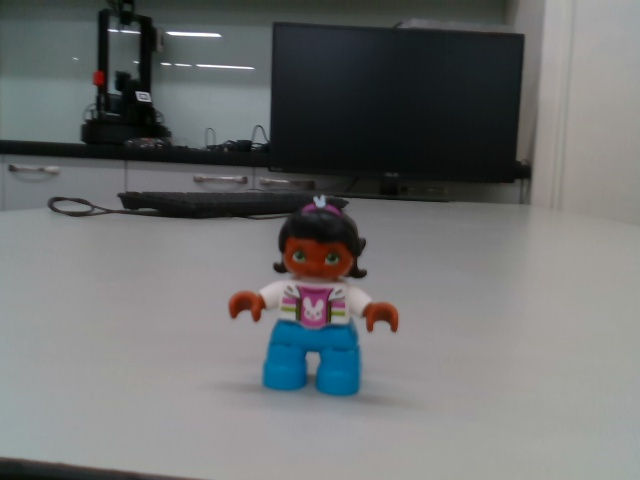people: (223, 191, 403, 401)
